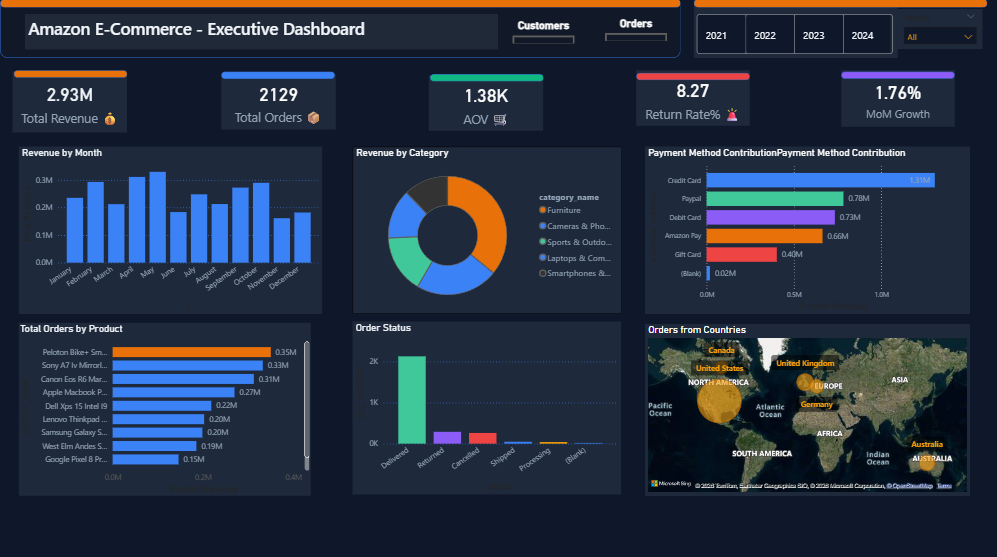

The page's visual inventory and layout, read from the dashboard file:
{"tool":"powerbi","page":{"name":"Home","canvas":[1600,900],"ordinal":0},"visuals":[{"type":"card","fields":{"Values":["public categories_clean.Total Revenue"]},"box":[20.6,116.6,183.5,97.8],"z":0},{"type":"card","fields":{"Values":["public categories_clean.Total Orders"]},"box":[353.3,119.2,183.5,89.2],"z":1000},{"type":"card","fields":{"Values":["public categories_clean.AOV"]},"box":[686.1,122.2,183.5,89.2],"z":2000},{"type":"card","fields":{"Values":["public categories_clean.Return Rate%"]},"box":[1018.9,113.2,181.8,89.2],"z":3000},{"type":"card","fields":{"Values":["All_Measures.MoM Growth"]},"box":[1345,113.3,181.7,90],"z":4000},{"type":"clusteredColumnChart","title":"Revenue by Month","fields":{"Y":["public categories_clean.Total Revenue"],"Category":["Calendar.Date.Variation.Date Hierarchy.Month"]},"box":[29.2,235.2,485.9,267.9],"z":5000},{"type":"donutChart","title":"Revenue by Category","fields":{"Y":["public categories_clean.Prime Revenue"],"Category":["public categories_clean.category_name"]},"box":[563.2,235.2,431,267.9],"z":6000},{"type":"clusteredBarChart","title":"Total Orders by Product","fields":{"Y":["Calendar.Product Revenue"],"Category":["public products_clean.product_name"]},"box":[29.2,518.6,467.1,276.5],"z":7000},{"type":"shape","box":[22.3,113.2,181.8,12],"z":8000},{"type":"shape","box":[0,0,1089.2,94.3],"z":9000},{"type":"shape","box":[353.3,116.6,181.8,12],"z":10000},{"type":"shape","box":[687.8,120.1,181.8,12],"z":11000},{"type":"shape","box":[1018.9,118.4,181.8,12],"z":12000},{"type":"shape","box":[1345,115,181.7,11.7],"z":13000},{"type":"textbox","box":[39.5,24,756.4,56.6],"z":14000},{"type":"advancedSlicerVisual","fields":{"Values":["Calendar.Date.Variation.Date Hierarchy.Year"]},"box":[1110,0,326,94],"z":15000},{"type":"shape","box":[1109.8,0,470,13.7],"z":16000},{"type":"shape","box":[0,0,1089.2,13.7],"z":17000},{"type":"clusteredBarChart","title":"Payment Method ContributionPayment Method Contribution","fields":{"Category":["Bridge Payment.method"],"Y":["Calendar.Product Revenue"]},"box":[1032,235.2,520.3,267.9],"z":18000},{"type":"columnChart","title":"Order Status","fields":{"Category":["public orders_clean.status"],"Y":["Bridge Payment.ALL ORDERS"]},"box":[563.2,515.1,429.3,276.5],"z":19000},{"type":"map","title":"Orders from Countries","fields":{"Category":["public customers_clean.country"],"Size":["public categories_clean.Total Orders"]},"box":[1032,520.3,520.3,274.7],"z":20000},{"type":"actionButton","title":"Customers","box":[820.8,32.6,99.6,39.5],"z":21000},{"type":"actionButton","title":"Orders","box":[968.5,27.5,99.6,39.5],"z":22000},{"type":"slicer","fields":{"Values":["Calendar.Date.Variation.Date Hierarchy.Month"]},"box":[1436,16,136,64],"z":23000}]}

Visuals, with their boxes in screenshot pixels (x1, y1, x2, y2), scaled from the page's 1600x900 canvas onto the 997x557 screenshot:
card - public categories_clean.Total Revenue: bbox=[13, 72, 127, 133]
card - public categories_clean.Total Orders: bbox=[220, 74, 334, 129]
card - public categories_clean.AOV: bbox=[428, 76, 542, 131]
card - public categories_clean.Return Rate%: bbox=[635, 70, 748, 125]
card - All_Measures.MoM Growth: bbox=[838, 70, 951, 126]
"Revenue by Month" clusteredColumnChart: bbox=[18, 146, 321, 311]
"Revenue by Category" donutChart: bbox=[351, 146, 620, 311]
"Total Orders by Product" clusteredBarChart: bbox=[18, 321, 309, 492]
shape: bbox=[14, 70, 127, 77]
shape: bbox=[0, 0, 679, 58]
shape: bbox=[220, 72, 333, 80]
shape: bbox=[429, 74, 542, 82]
shape: bbox=[635, 73, 748, 81]
shape: bbox=[838, 71, 951, 78]
textbox: bbox=[25, 15, 496, 50]
advancedSlicerVisual - Calendar.Date.Variation.Date Hierarchy.Year: bbox=[692, 0, 895, 58]
shape: bbox=[692, 0, 984, 8]
shape: bbox=[0, 0, 679, 8]
"Payment Method ContributionPayment Method Contribution" clusteredBarChart: bbox=[643, 146, 967, 311]
"Order Status" columnChart: bbox=[351, 319, 618, 490]
"Orders from Countries" map: bbox=[643, 322, 967, 492]
"Customers" actionButton: bbox=[511, 20, 574, 45]
"Orders" actionButton: bbox=[603, 17, 666, 41]
slicer - Calendar.Date.Variation.Date Hierarchy.Month: bbox=[895, 10, 980, 50]
